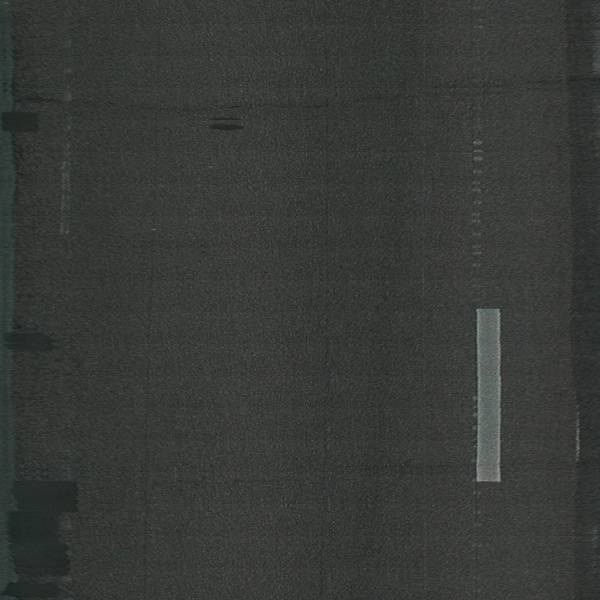road_damage: (19, 71, 599, 108), (317, 58, 340, 499), (470, 481, 487, 600)
